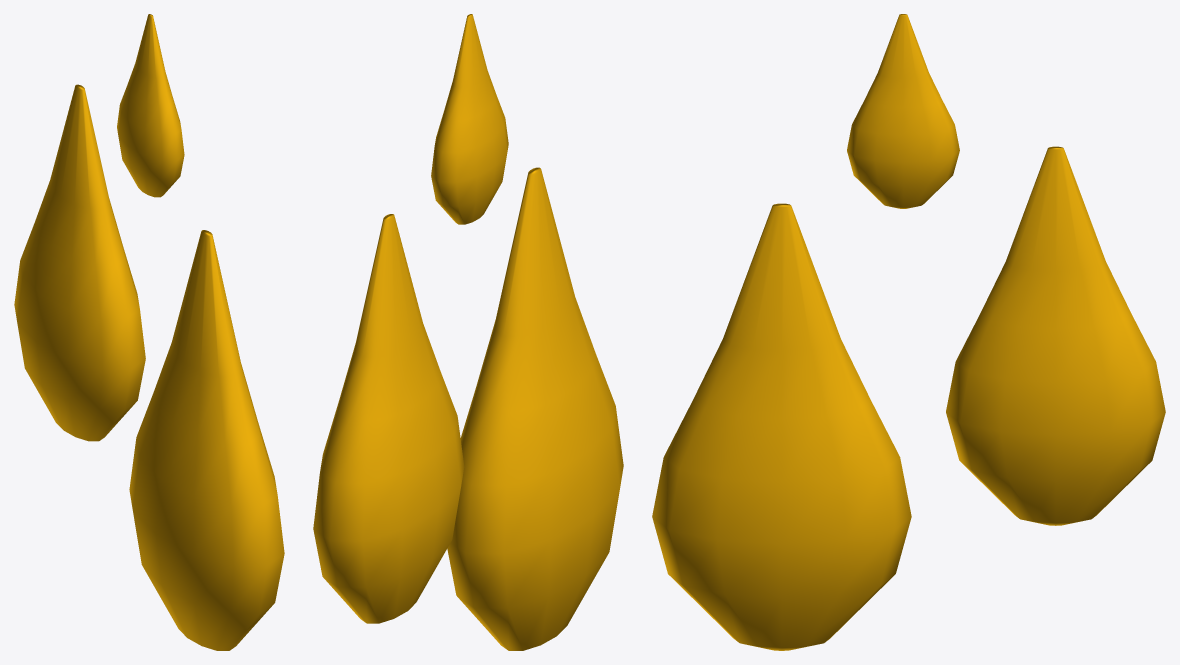
The model's file is WaterElementalOrb1.fbx.
3 views of the same model, side by side, from view 1: azimuth 30°, elevation 25°; view 2: azimuth 150°, elevation 25°; view 3: azimuth 270°, elevation 25° (orthographic). The views are drawn at different scales.
Visible parts, largest first — view 1: Water_Pickup; view 2: Water_Pickup; view 3: Water_Pickup.
Boxes of the visible parts, left/top/right/bottom form: Water_Pickup: left=14, top=14, right=284, bottom=650; Water_Pickup: left=313, top=14, right=623, bottom=650; Water_Pickup: left=652, top=14, right=1165, bottom=650.
Size of the model in its own units: 11.82 by 65.03 by 47.76.
